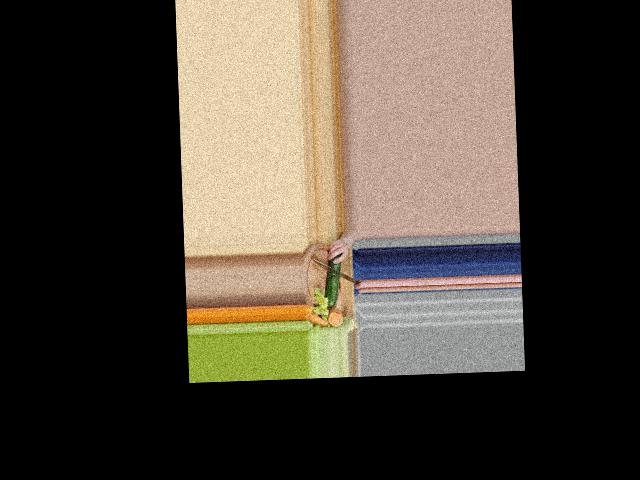cucumber: (324, 253, 342, 308)
